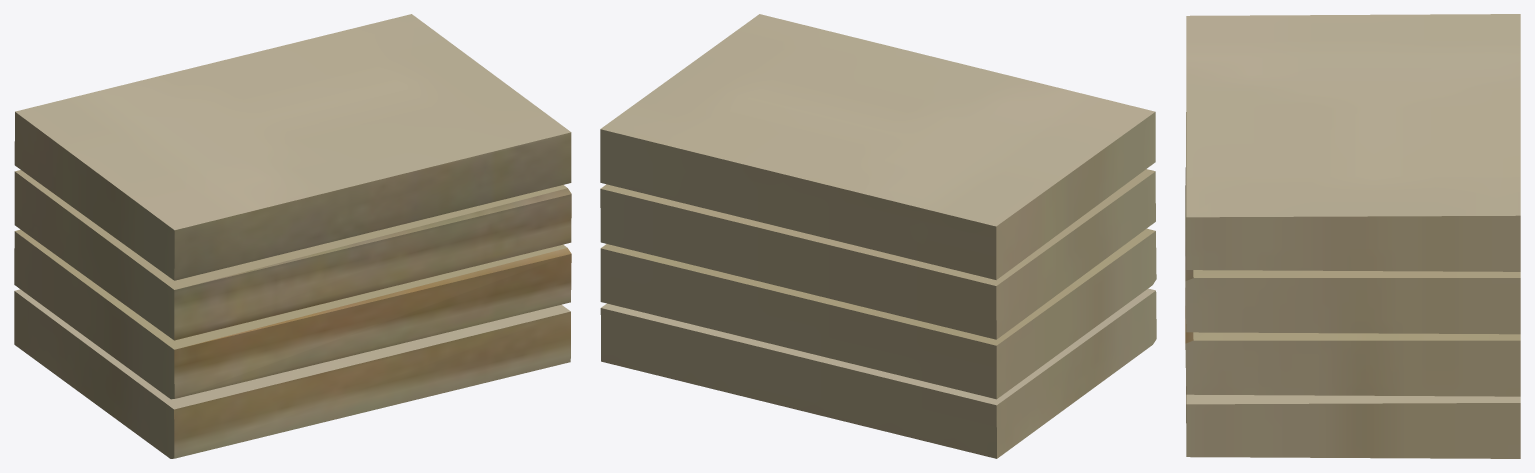
Rendered from book1_h2.dae.
3 renders of one model, left to right at view 1: azimuth 30°, elevation 25°; view 2: azimuth 150°, elevation 25°; view 3: azimuth 270°, elevation 25°, orthographic. The views are drawn at different scales.
Visible parts, largest first — view 1: node; view 2: node; view 3: node.
Boxes of the visible parts, left/top/right/bottom form: node: left=14, top=14, right=571, bottom=458; node: left=600, top=14, right=1156, bottom=458; node: left=1185, top=14, right=1520, bottom=458.
Bounding box in the file's own units: 0.1721 × 0.0966 × 0.1201.
1 material, 1 textured.
